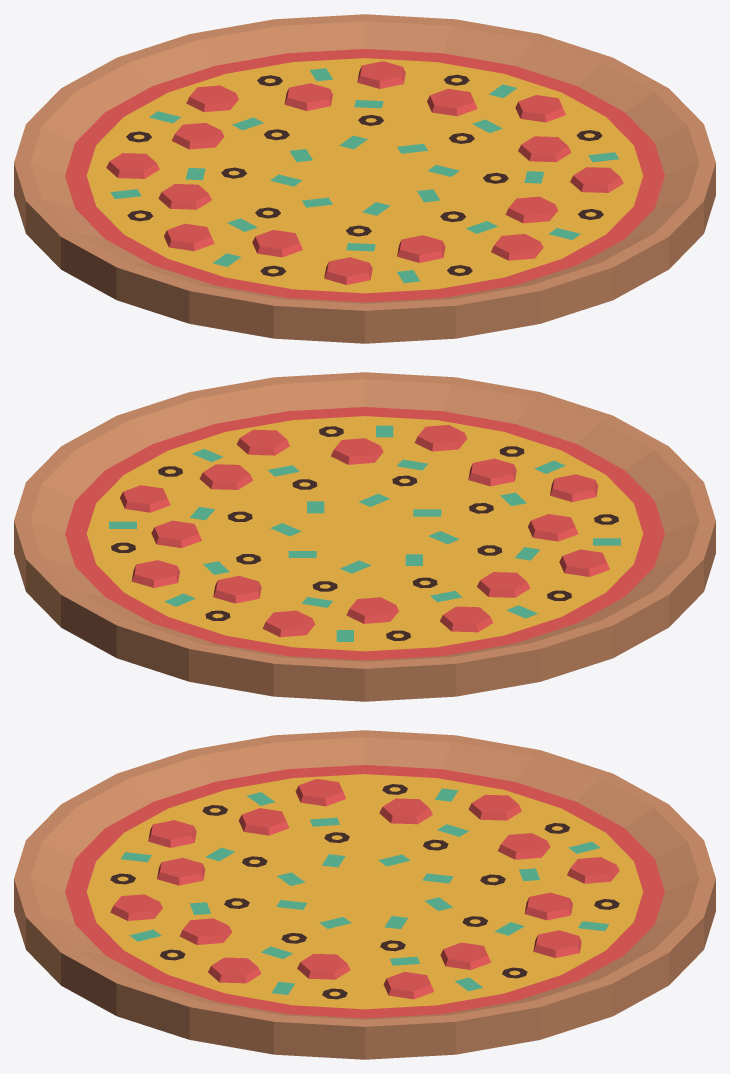
The model's file is pizza.obj.
3 views of the same model, one above another, from view 1: azimuth 30°, elevation 25°; view 2: azimuth 150°, elevation 25°; view 3: azimuth 270°, elevation 25° (orthographic).
Visible parts, largest first — view 1: slice2, slice3, slice1, slice6, slice7, slice5, slice4, slice0; view 2: slice5, slice4, slice6, slice1, slice0, slice2, slice3, slice7; view 3: slice0, slice7, slice3, slice4, slice1, slice6, slice2, slice5.
Boxes of the visible parts, <box> form: slice2: <box>274,176,540,343</box>; slice3: <box>61,176,364,338</box>; slice1: <box>365,175,703,323</box>; slice6: <box>190,14,455,175</box>; slice7: <box>365,19,668,175</box>; slice5: <box>26,34,364,175</box>; slice4: <box>14,124,364,268</box>; slice0: <box>366,88,715,232</box>; slice5: <box>189,534,455,701</box>; slice4: <box>365,534,668,696</box>; slice6: <box>26,533,364,681</box>; slice1: <box>274,372,539,533</box>; slice0: <box>61,377,364,533</box>; slice2: <box>365,392,703,533</box>; slice3: <box>365,482,715,626</box>; slice7: <box>14,446,363,590</box>; slice0: <box>116,892,364,1059</box>; slice7: <box>365,892,613,1059</box>; slice3: <box>117,730,364,891</box>; slice4: <box>365,730,612,891</box>; slice1: <box>14,878,364,1015</box>; slice6: <box>365,878,715,1015</box>; slice2: <box>14,774,363,891</box>; slice5: <box>366,774,715,891</box>.
Bounding box in the file's own units: 0.8418 × 0.0435 × 0.8418.
